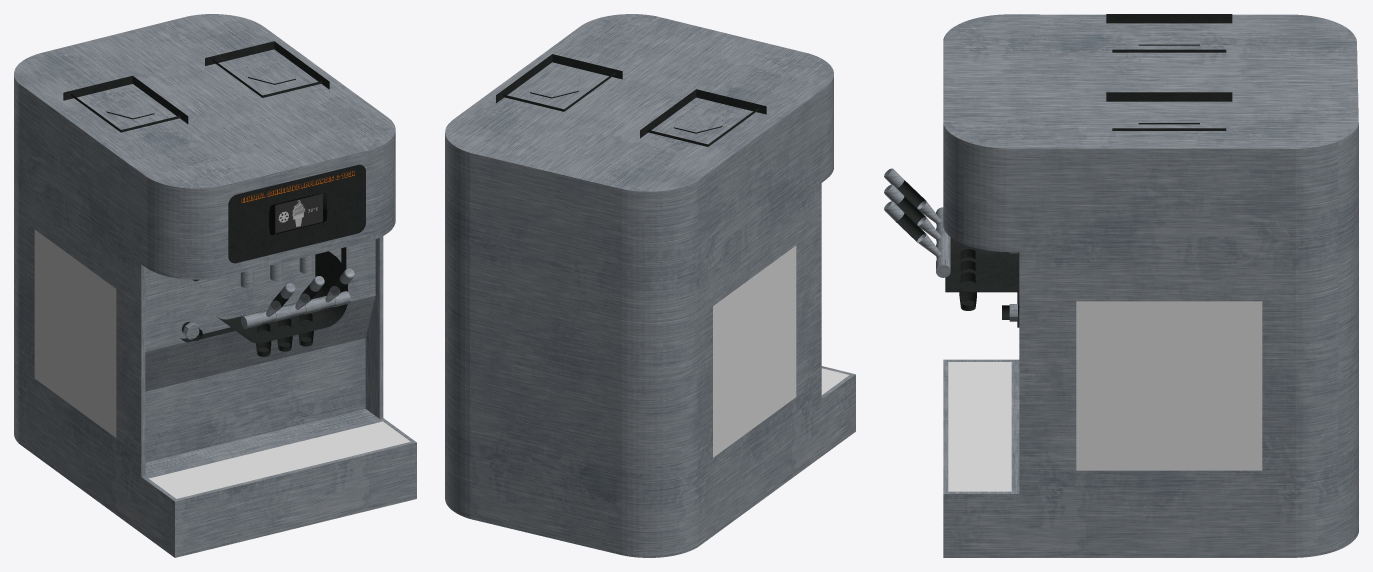
The model's file is IceCreamDispencer.fbx.
The picture shows the model from 3 angles, left to right: view 1: azimuth 30°, elevation 25°; view 2: azimuth 150°, elevation 25°; view 3: azimuth 270°, elevation 25°; orthographic projection. The views are drawn at different scales.
Visible parts, largest first — view 1: Cube.007; view 2: Cube.007; view 3: Cube.007.
Boxes of the visible parts, x1=… form: Cube.007: x1=14, y1=14, x2=416, y2=557; Cube.007: x1=445, y1=14, x2=855, y2=557; Cube.007: x1=884, y1=14, x2=1358, y2=557.
Size of the model in its own units: 476 by 692 by 711.
8 materials, 6 textured.
